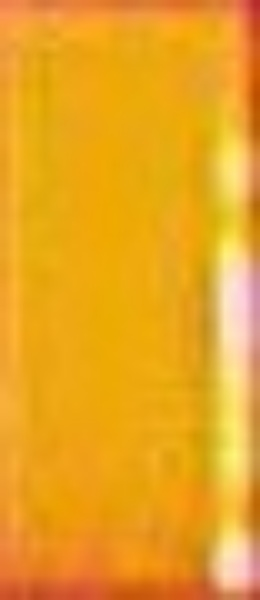Diode: (204, 121, 258, 600)
